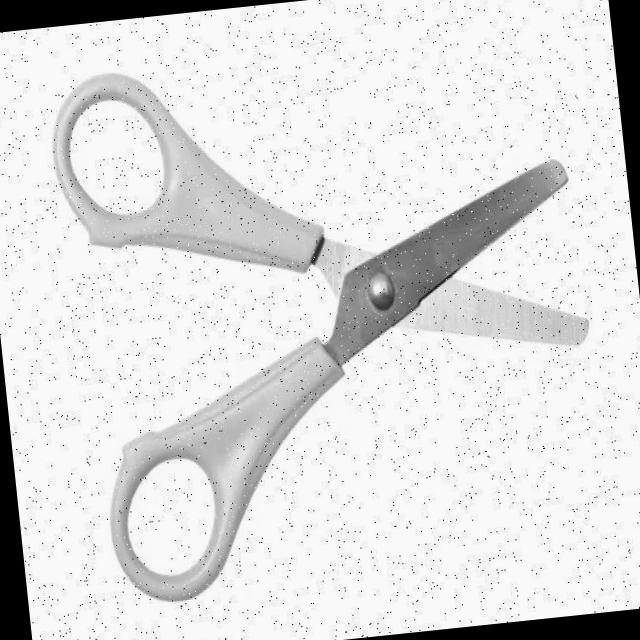scissors: (41, 19, 616, 612)
